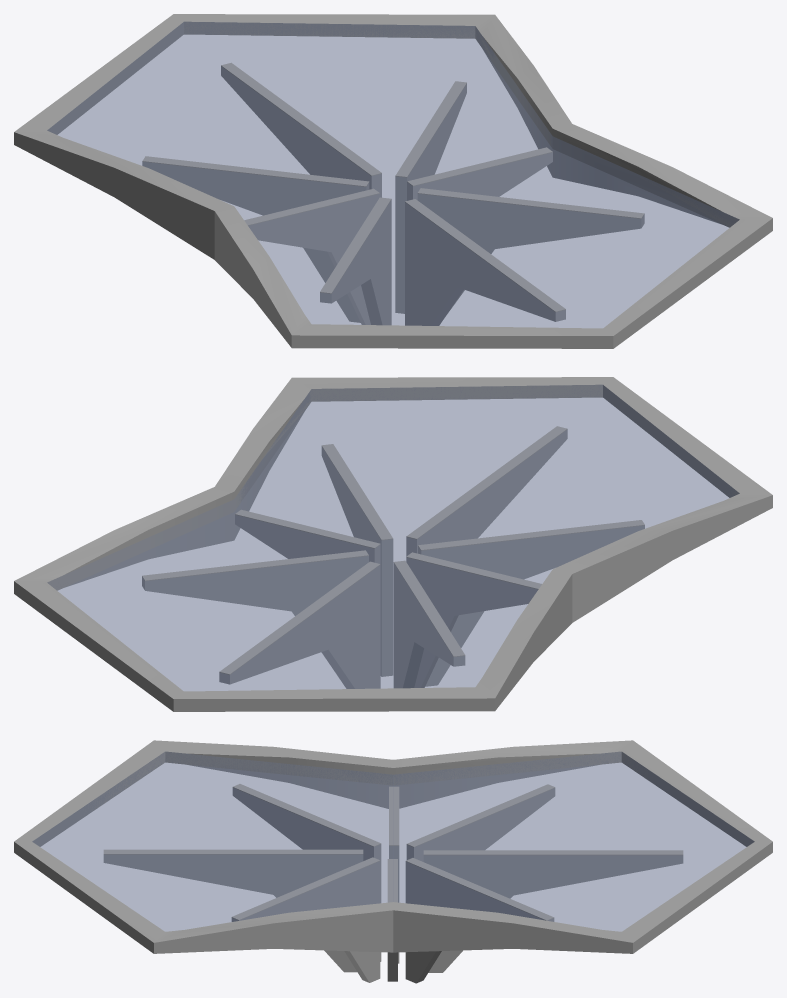
File: FloatingPlatform2.fbx
3 views of the same model, one above another, from view 1: azimuth 30°, elevation 25°; view 2: azimuth 150°, elevation 25°; view 3: azimuth 270°, elevation 25° (orthographic). The views are drawn at different scales.
Parts seen in each view (by area): view 1: pCylinder6, pCylinder8, pCube133, pCube134, pCube130, pCube129, pCube131, pCube132, pCube128, pCube127; view 2: pCylinder6, pCylinder8, pCube129, pCube128, pCube132, pCube133, pCube131, pCube130, pCube134, pCube127; view 3: pCylinder6, pCylinder8, pCube133, pCube129, pCube134, pCube128, pCube132, pCube130, pCube131, pCube127.
Boxes of the visible parts, x1=… form: pCylinder6: x1=47, y1=21, x2=739, y2=328; pCylinder8: x1=14, y1=14, x2=772, y2=348; pCube133: x1=405, y1=199, x2=565, y2=325; pCube134: x1=417, y1=188, x2=644, y2=312; pCube130: x1=142, y1=156, x2=369, y2=322; pCube129: x1=221, y1=62, x2=381, y2=197; pCube131: x1=244, y1=188, x2=379, y2=324; pCube132: x1=320, y1=197, x2=391, y2=325; pCube128: x1=395, y1=81, x2=466, y2=313; pCube127: x1=407, y1=147, x2=552, y2=200; pCylinder6: x1=47, y1=384, x2=739, y2=691; pCylinder8: x1=14, y1=377, x2=772, y2=711; pCube129: x1=219, y1=561, x2=380, y2=688; pCube128: x1=142, y1=550, x2=368, y2=615; pCube132: x1=418, y1=520, x2=644, y2=686; pCube133: x1=406, y1=426, x2=567, y2=556; pCube131: x1=406, y1=552, x2=541, y2=687; pCube130: x1=393, y1=560, x2=465, y2=688; pCube134: x1=321, y1=444, x2=393, y2=676; pCube127: x1=235, y1=509, x2=380, y2=563; pCylinder6: x1=32, y1=752, x2=754, y2=931; pCylinder8: x1=14, y1=740, x2=772, y2=953; pCube133: x1=103, y1=849, x2=363, y2=972; pCube129: x1=423, y1=850, x2=683, y2=972; pCube134: x1=231, y1=857, x2=380, y2=982; pCube128: x1=405, y1=858, x2=554, y2=983; pCube132: x1=232, y1=784, x2=381, y2=961; pCube130: x1=406, y1=784, x2=555, y2=861; pCube131: x1=389, y1=786, x2=399, y2=963; pCube127: x1=387, y1=859, x2=397, y2=981.
Size of the model in its own units: 39.34 by 12.26 by 62.3.
